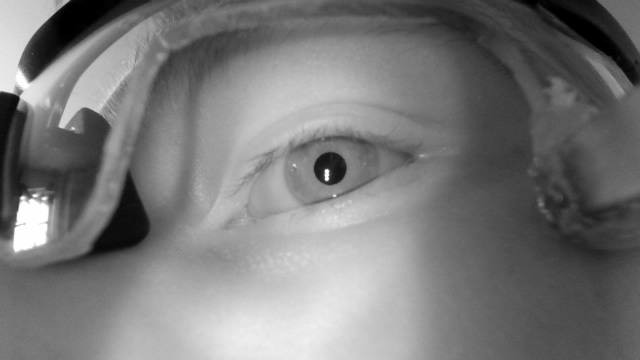pupil: (313, 151, 348, 186)
